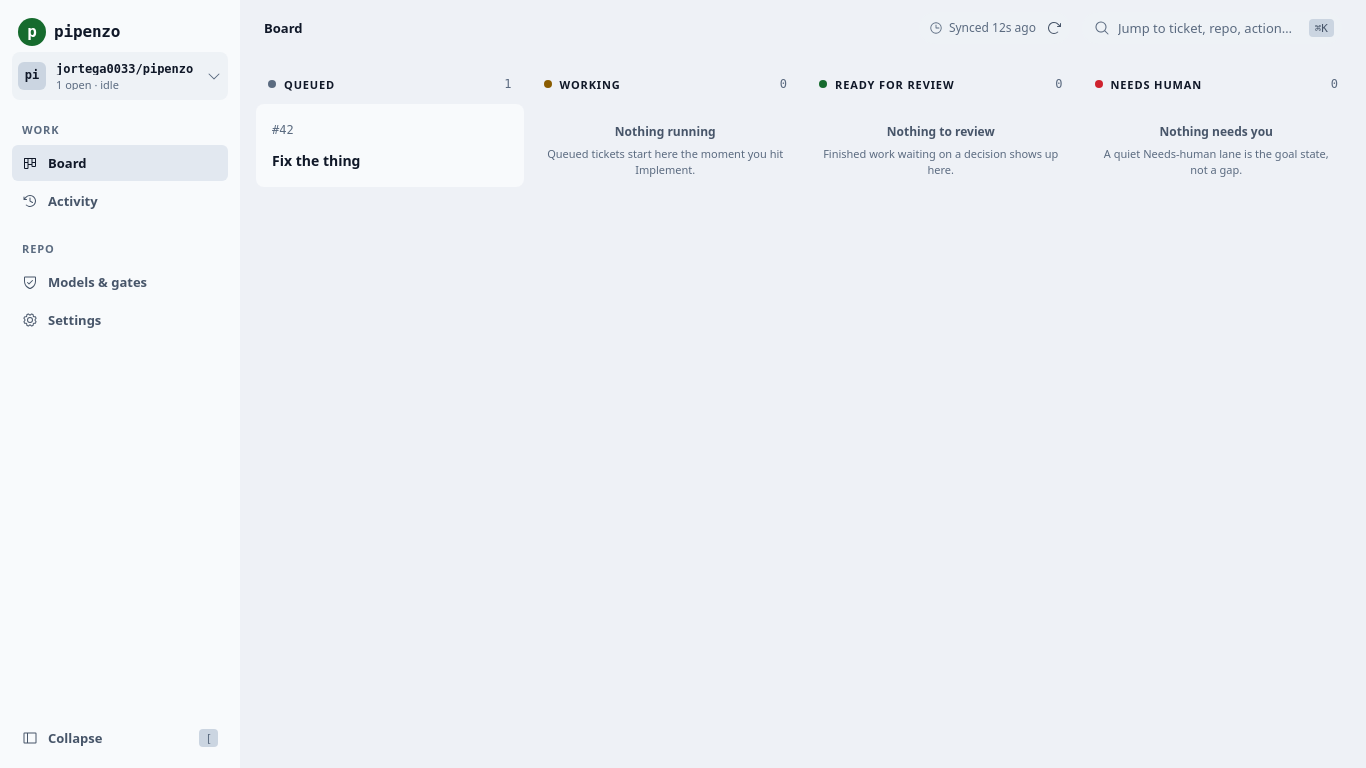
Test: PipenzoAppShell › makes a Queued card a button that opens the Implement dialog for that ticket
Click the button "#42 Fix the thing": (316, 160) top-left (256, 104), bottom-right (524, 187)
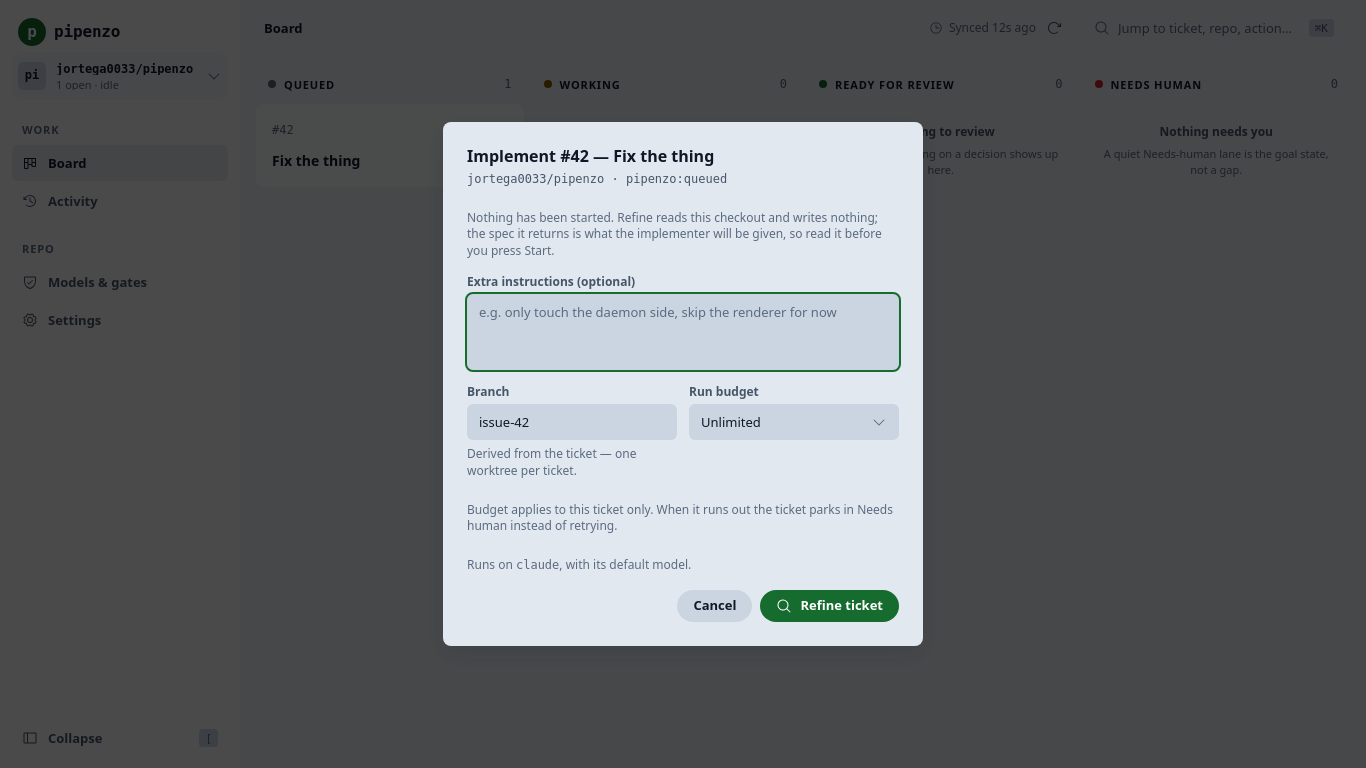
Check: the button "Refine ticket" is shown, box top-left (760, 590), bottom-right (899, 622)
Check: the dialog "Implement #42 — Fix the thing" is shown, box top-left (443, 122), bottom-right (923, 646)
